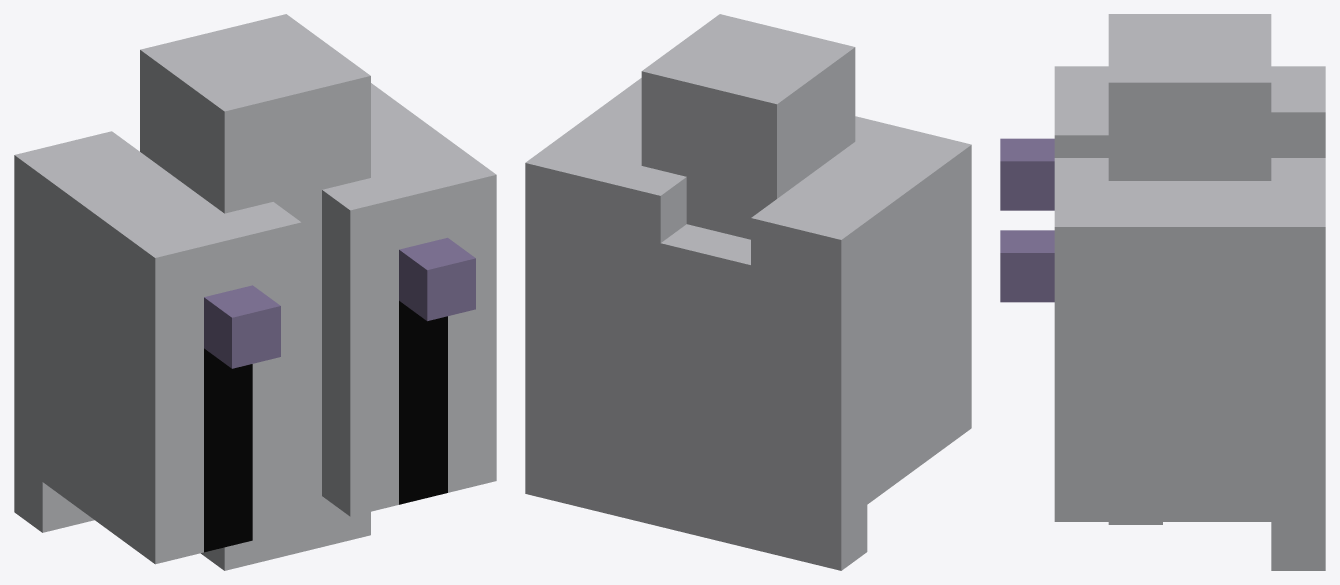
File: ghost_action_0.obj
The picture shows the model from 3 angles, left to right: view 1: azimuth 30°, elevation 25°; view 2: azimuth 150°, elevation 25°; view 3: azimuth 270°, elevation 25°; orthographic projection. The views are drawn at different scales.
Size of the model in its own units: 0.7 by 0.9 by 0.6.
Materials: 1 (1 with a texture image).
